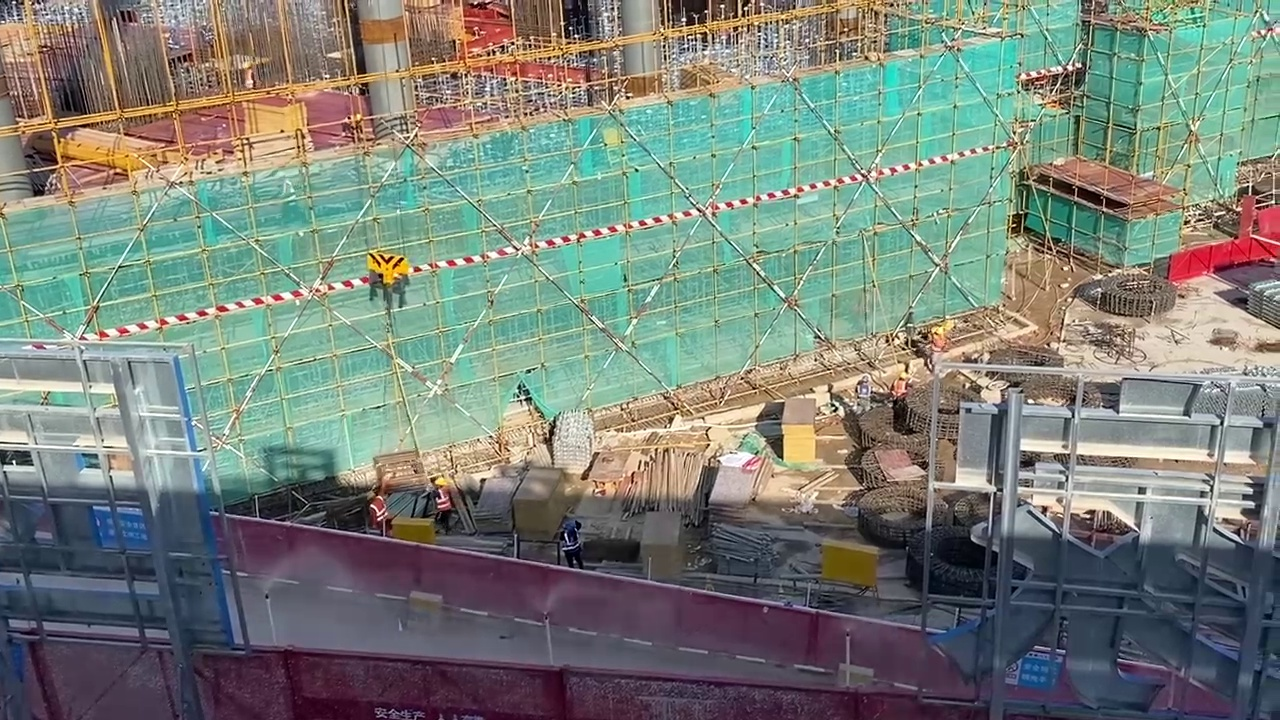board: (513, 468, 559, 542), (641, 508, 678, 578), (780, 396, 817, 461)
fence: (13, 632, 970, 720)
hook: (365, 249, 410, 284)
person: (361, 490, 389, 536), (556, 520, 584, 564), (426, 474, 450, 520), (888, 374, 912, 401)
vest: (369, 497, 389, 523)
wood: (626, 448, 704, 525)
